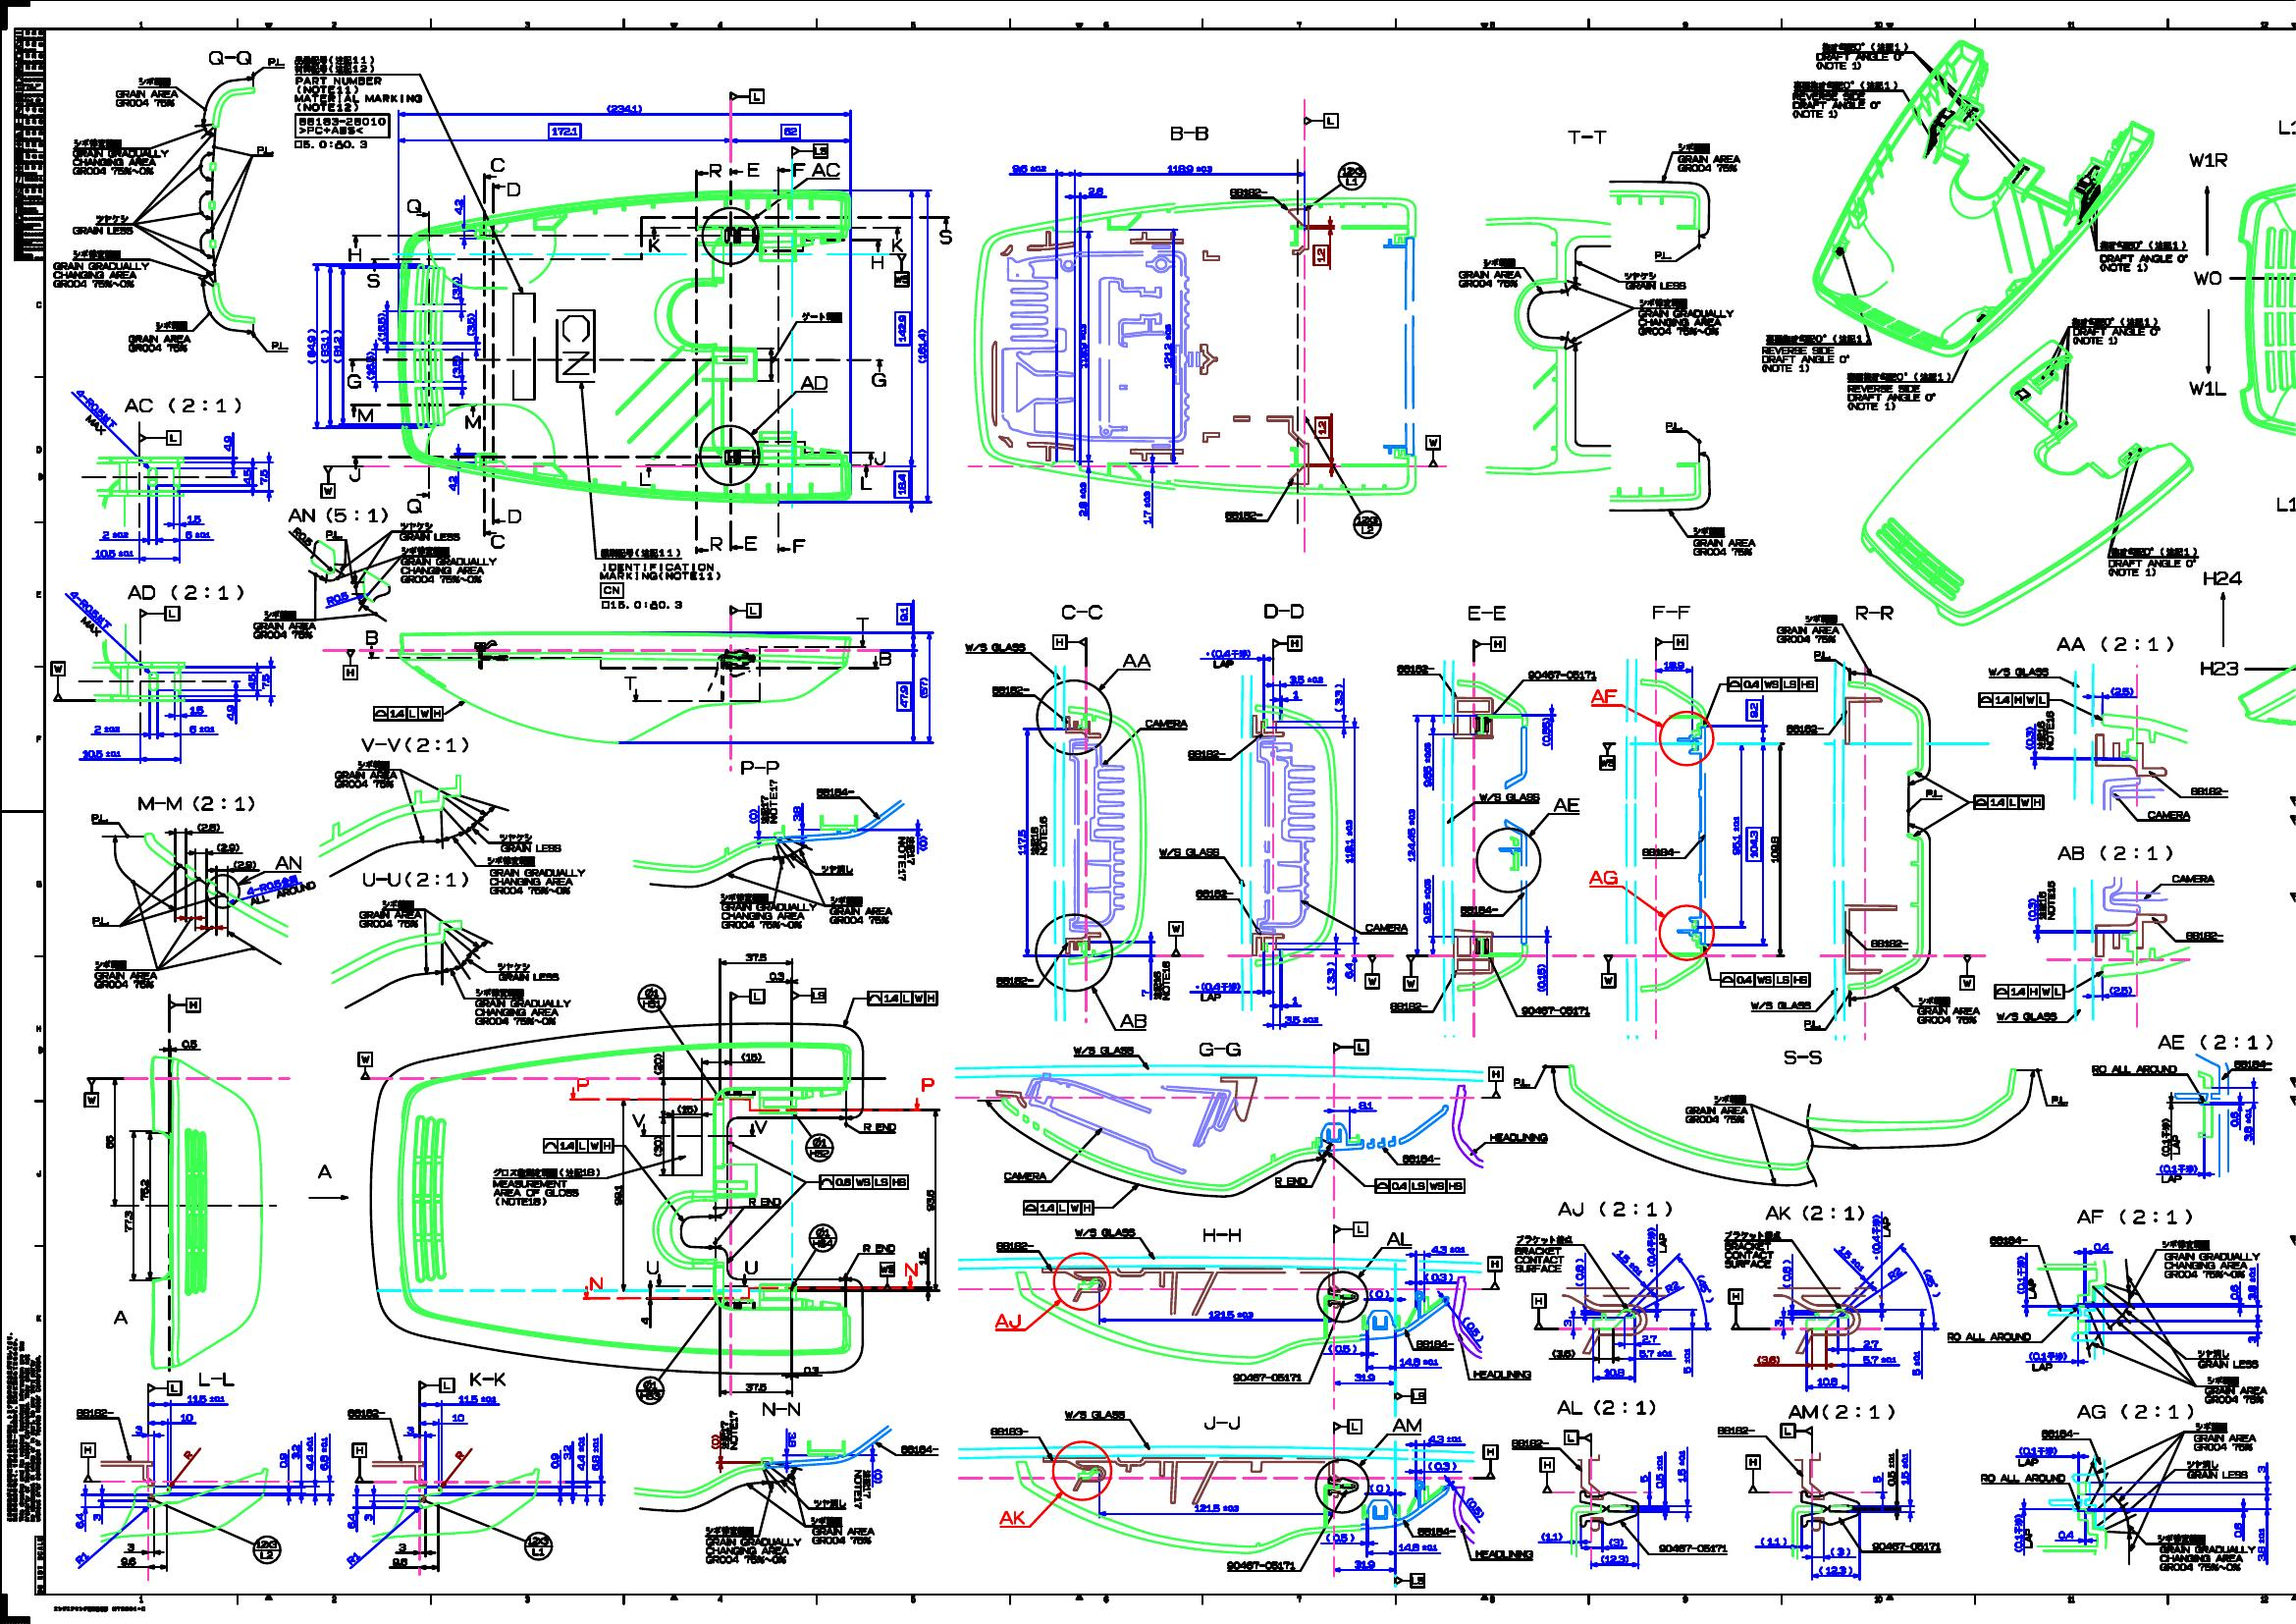anntotation_text: (293, 54, 423, 149), (2187, 151, 2227, 399), (599, 547, 720, 612), (5, 1329, 40, 1522), (490, 1167, 599, 1207), (1846, 371, 1950, 413), (1760, 334, 1871, 373), (1792, 79, 1897, 120), (2155, 1533, 2256, 1575), (2201, 571, 2240, 677), (1635, 297, 1734, 337), (487, 856, 588, 895), (474, 988, 573, 1026), (704, 1526, 803, 1564), (53, 250, 149, 288), (2161, 1241, 2259, 1278), (718, 893, 815, 930), (401, 547, 497, 584), (72, 139, 169, 174), (2099, 237, 2189, 272), (1815, 40, 1910, 70), (2071, 315, 2161, 346), (2108, 547, 2198, 576), (135, 794, 256, 814), (2075, 1207, 2192, 1227), (1514, 1234, 1572, 1272), (1723, 1230, 1781, 1269), (2157, 1033, 2273, 1053), (123, 584, 244, 601), (2055, 634, 2175, 652), (126, 397, 244, 415), (1676, 142, 1741, 174), (1692, 526, 1757, 557), (128, 320, 190, 353), (2057, 844, 2173, 861), (1556, 1200, 1672, 1218), (1555, 1397, 1658, 1417), (1685, 1093, 1748, 1125), (2194, 1420, 2256, 1452), (114, 77, 179, 107), (1458, 257, 1523, 286), (1774, 613, 1839, 643), (2203, 1374, 2268, 1404), (332, 759, 397, 789), (360, 872, 469, 889), (1788, 1403, 1895, 1420), (357, 736, 473, 752), (1917, 995, 1982, 1023), (810, 1517, 875, 1545), (358, 900, 422, 928), (829, 895, 892, 923), (253, 610, 316, 638), (95, 960, 156, 988), (2076, 1404, 2194, 1418), (286, 508, 388, 524), (248, 877, 316, 900), (1765, 1204, 1864, 1220), (1727, 677, 1818, 692), (1720, 972, 1809, 988), (1375, 1178, 1465, 1193), (819, 1174, 908, 1190), (70, 213, 132, 236), (495, 961, 560, 982), (497, 833, 562, 854), (2185, 1459, 2247, 1480), (65, 401, 121, 424), (58, 601, 114, 624), (1623, 271, 1688, 290), (1973, 793, 2043, 810), (2198, 1348, 2259, 1367), (2015, 1255, 2040, 1301), (543, 1137, 613, 1153), (399, 522, 462, 540), (2090, 1062, 2177, 1074), (1980, 1471, 2066, 1483), (866, 991, 938, 1005), (636, 982, 668, 1014), (523, 1531, 555, 1562), (1193, 981, 1240, 1002), (803, 1132, 836, 1162), (1994, 984, 2064, 998), (1022, 1200, 1093, 1214), (372, 707, 443, 721), (1646, 1227, 1667, 1272), (2027, 1350, 2069, 1373), (2015, 1445, 2057, 1468), (1205, 649, 1251, 670), (896, 833, 915, 882), (806, 1223, 838, 1253), (1351, 510, 1383, 540), (759, 777, 778, 824), (251, 1534, 281, 1564), (1978, 694, 2048, 707), (2034, 710, 2055, 750), (2161, 1116, 2182, 1156), (1871, 1214, 1890, 1258), (1226, 1559, 1295, 1571), (636, 1374, 664, 1404), (1337, 162, 1367, 190), (1263, 601, 1305, 620), (1465, 605, 1507, 624), (1750, 998, 1813, 1011), (1525, 670, 1599, 680), (1852, 605, 1895, 622), (1869, 1541, 1941, 1552), (1946, 1332, 2032, 1341), (1073, 1044, 1135, 1056), (2159, 1164, 2198, 1183), (2013, 1513, 2032, 1552), (1565, 128, 1607, 146), (2038, 879, 2055, 921), (1231, 1371, 1302, 1381), (720, 1410, 738, 1452), (854, 1468, 871, 1510), (1029, 814, 1047, 856), (1521, 1005, 1592, 1016), (207, 49, 253, 65), (1658, 1543, 1727, 1554), (1198, 1042, 1242, 1058), (1059, 603, 1103, 619), (1154, 961, 1172, 1000), (1402, 953, 1419, 991), (1994, 1011, 2057, 1021), (1073, 1227, 1137, 1237), (1200, 1227, 1242, 1243), (738, 759, 780, 775), (53, 1605, 146, 1612), (1203, 1413, 1240, 1431), (964, 642, 1026, 652), (1727, 1288, 1743, 1329), (1783, 1049, 1823, 1065), (761, 1401, 801, 1417), (1650, 605, 1690, 620), (1168, 125, 1209, 141), (1488, 1132, 1548, 1142), (1472, 1369, 1532, 1380), (1065, 1410, 1124, 1420), (1474, 1548, 1534, 1559), (146, 1378, 181, 1396), (79, 1443, 95, 1482), (197, 1371, 235, 1387), (1539, 1455, 1555, 1494), (49, 661, 65, 700), (139, 431, 181, 445), (1333, 1220, 1367, 1237), (729, 601, 762, 619), (791, 144, 827, 160), (469, 1371, 506, 1387), (139, 606, 179, 620), (351, 1443, 365, 1483), (729, 88, 764, 104), (731, 988, 766, 1004), (791, 986, 826, 1002), (1483, 1445, 1498, 1480), (1052, 634, 1087, 650), (1365, 954, 1381, 990), (1477, 793, 1541, 801), (1590, 685, 1618, 705), (1989, 668, 2050, 677), (1158, 847, 1219, 856), (320, 464, 336, 497), (1959, 956, 1975, 990), (1600, 954, 1616, 988), (1488, 1257, 1504, 1290), (1472, 636, 1505, 652), (35, 1534, 44, 1594), (1588, 868, 1618, 886), (274, 854, 304, 872), (355, 1051, 372, 1081), (1551, 796, 1581, 814), (1333, 1039, 1370, 1053), (1532, 1292, 1546, 1329), (1989, 1234, 2031, 1246), (1746, 1455, 1760, 1492), (1168, 921, 1182, 958), (1488, 1067, 1504, 1098), (1332, 1418, 1363, 1434), (1391, 1417, 1423, 1432), (1425, 434, 1440, 466), (801, 309, 841, 322), (1397, 663, 1437, 675), (894, 253, 908, 288), (1599, 742, 1616, 770), (1303, 114, 1339, 128), (1003, 1171, 1049, 1181), (83, 1077, 98, 1107), (1395, 1571, 1425, 1587), (1121, 652, 1151, 668), (1272, 634, 1302, 650), (1393, 1388, 1426, 1403), (420, 1378, 453, 1392), (2147, 808, 2191, 819), (2171, 874, 2215, 884), (1145, 719, 1189, 729), (1363, 923, 1407, 933), (169, 998, 200, 1012), (878, 1260, 894, 1288), (994, 1313, 1022, 1329), (998, 1510, 1026, 1526), (1781, 1424, 1813, 1438), (1186, 749, 1228, 759), (1657, 634, 1688, 649), (343, 649, 357, 680), (2189, 786, 2229, 796), (2184, 930, 2224, 940), (2233, 1058, 2273, 1069), (76, 1408, 116, 1418), (346, 1408, 386, 1418), (989, 1427, 1029, 1438), (1416, 1526, 1456, 1536), (991, 684, 1031, 694), (1223, 510, 1263, 520), (1384, 1232, 1414, 1246), (1121, 1012, 1147, 1028), (1869, 939, 1908, 949), (1641, 847, 1679, 858), (1402, 1151, 1440, 1162), (1511, 1438, 1549, 1448), (815, 786, 854, 796), (1563, 1429, 1592, 1443), (996, 975, 1033, 986), (1390, 1000, 1426, 1011), (747, 1195, 782, 1206), (861, 1243, 896, 1253), (1716, 1425, 1758, 1434), (1785, 724, 1825, 733), (1195, 889, 1235, 898), (1228, 188, 1268, 197), (863, 1121, 896, 1132), (1274, 1176, 1307, 1186), (813, 1497, 847, 1508), (1414, 1339, 1453, 1348), (2041, 1429, 2080, 1438), (899, 1445, 938, 1454), (1460, 905, 1498, 914), (996, 1241, 1033, 1250), (820, 865, 854, 874), (111, 1309, 128, 1325), (364, 629, 379, 647), (464, 415, 481, 431), (2048, 1093, 2069, 1106), (574, 1077, 590, 1093), (588, 1276, 604, 1292), (645, 1258, 661, 1274), (741, 534, 757, 550), (406, 499, 422, 515), (490, 534, 506, 550), (506, 508, 522, 524), (857, 475, 873, 490), (871, 450, 887, 466), (799, 374, 815, 390), (889, 237, 905, 253), (506, 181, 522, 197), (346, 246, 362, 262), (346, 374, 362, 390), (903, 1260, 917, 1278), (348, 468, 362, 483), (358, 408, 372, 424), (90, 812, 111, 823), (316, 1164, 332, 1178), (631, 1113, 646, 1127), (745, 1258, 759, 1274), (754, 1118, 768, 1134), (921, 1077, 936, 1091), (878, 650, 892, 666), (323, 529, 344, 540), (792, 538, 806, 554), (636, 471, 650, 487), (871, 371, 885, 387), (870, 255, 884, 271), (791, 162, 805, 178), (708, 163, 722, 179), (646, 239, 661, 255), (490, 156, 504, 172), (406, 199, 420, 214), (365, 272, 379, 288), (1655, 250, 1672, 262), (1813, 649, 1832, 659), (1513, 1077, 1532, 1088), (708, 538, 722, 552), (745, 162, 759, 176), (624, 675, 636, 691), (938, 228, 950, 244), (813, 162, 826, 178), (1665, 420, 1683, 431), (90, 916, 111, 924), (265, 56, 285, 65), (271, 341, 290, 350), (1925, 789, 1941, 798), (1802, 1019, 1822, 1026), (255, 146, 272, 153)
dimension_text: (1405, 807, 1416, 861), (894, 311, 910, 344), (546, 123, 580, 139), (1344, 817, 1354, 865), (1398, 1355, 1439, 1367), (1746, 826, 1760, 861), (1423, 742, 1433, 786), (896, 682, 912, 710), (1834, 1253, 1869, 1265), (1398, 1541, 1439, 1552), (1730, 816, 1741, 856), (1193, 1503, 1240, 1512), (894, 471, 910, 497), (1163, 322, 1172, 369), (1423, 877, 1432, 924), (1818, 1564, 1852, 1577), (1699, 1272, 1711, 1306), (1925, 1267, 1938, 1301), (1166, 163, 1212, 172), (1080, 323, 1089, 369), (1209, 1309, 1254, 1318), (1079, 480, 1089, 517), (1611, 1257, 1648, 1267), (306, 327, 316, 364), (320, 329, 330, 366), (1885, 1452, 1895, 1487), (1284, 1014, 1319, 1025), (1314, 417, 1332, 438), (304, 1436, 314, 1471), (1862, 1353, 1897, 1364), (330, 329, 341, 364), (81, 749, 121, 758), (1676, 1450, 1686, 1483), (364, 346, 374, 380), (186, 1394, 225, 1403), (95, 548, 134, 557), (1312, 244, 1328, 265), (896, 603, 912, 624), (1426, 1461, 1456, 1471), (1326, 1343, 1356, 1353), (1769, 835, 1780, 865), (1574, 1257, 1585, 1287), (1681, 1346, 1692, 1376), (1426, 1434, 1462, 1443), (1655, 1454, 1664, 1489), (2257, 1526, 2266, 1561), (1289, 675, 1325, 684), (606, 104, 641, 112), (917, 329, 926, 364), (1012, 163, 1047, 172), (1142, 489, 1151, 524), (1430, 1244, 1465, 1253), (780, 123, 799, 139), (1326, 1531, 1354, 1541), (1460, 1323, 1488, 1334), (1535, 963, 1546, 991), (1746, 700, 1760, 721), (1781, 1258, 1792, 1287), (590, 1438, 599, 1471), (1899, 1452, 1908, 1485), (320, 1436, 329, 1469), (1639, 1348, 1672, 1357), (2243, 1107, 2252, 1141), (2247, 1267, 2256, 1301), (378, 311, 386, 344), (457, 1396, 497, 1403), (1462, 1503, 1488, 1513), (1541, 715, 1549, 747), (1600, 1554, 1630, 1562), (578, 1434, 585, 1471), (1539, 1531, 1563, 1541), (924, 1190, 936, 1211), (1354, 1371, 1375, 1383), (2108, 984, 2133, 995), (2110, 685, 2134, 696), (2024, 726, 2034, 750), (1551, 1348, 1576, 1359), (1758, 1536, 1787, 1545), (1017, 828, 1026, 856), (1333, 684, 1342, 712), (1425, 1272, 1453, 1281), (188, 724, 216, 733), (1829, 1545, 1852, 1555), (139, 1178, 149, 1200), (216, 842, 239, 852), (740, 1051, 762, 1062), (1602, 1366, 1625, 1376), (1816, 1376, 1839, 1387), (450, 276, 460, 299), (102, 531, 128, 540), (1913, 1350, 1922, 1376), (323, 592, 350, 601), (1368, 1288, 1390, 1299), (613, 1185, 624, 1206), (676, 1104, 697, 1114), (745, 1381, 766, 1392), (1664, 659, 1685, 670), (919, 677, 929, 698), (232, 859, 256, 868), (1757, 1355, 1781, 1364), (290, 533, 314, 541), (123, 1209, 132, 1232), (197, 823, 220, 831), (653, 1053, 662, 1076), (745, 953, 768, 961), (2027, 898, 2036, 921), (453, 355, 462, 378), (1326, 961, 1333, 990), (93, 726, 121, 733), (1354, 1559, 1375, 1568), (181, 1039, 199, 1049), (1342, 961, 1353, 979), (344, 1552, 362, 1562), (653, 1135, 662, 1156), (184, 531, 211, 538), (1662, 1281, 1679, 1292), (2092, 1241, 2110, 1251), (453, 197, 464, 214), (1370, 1483, 1390, 1492), (550, 1452, 560, 1468), (1607, 1536, 1623, 1547), (278, 1452, 288, 1468), (188, 705, 204, 715), (260, 673, 271, 689), (2229, 1111, 2240, 1127), (467, 313, 474, 336), (346, 1512, 355, 1529), (2057, 1529, 2075, 1538), (1087, 186, 1105, 195), (227, 703, 235, 721), (260, 468, 269, 485), (1885, 1269, 1903, 1278), (74, 1512, 83, 1529), (72, 1554, 90, 1562), (119, 1555, 137, 1564), (448, 475, 457, 492), (562, 1443, 571, 1459), (711, 1434, 720, 1450), (787, 1431, 796, 1446), (873, 1468, 882, 1483), (2233, 1522, 2242, 1538), (104, 1134, 112, 1149), (748, 808, 757, 824), (792, 805, 801, 821), (919, 835, 928, 851), (290, 1443, 299, 1459), (917, 1250, 926, 1265), (803, 1366, 819, 1374), (248, 673, 256, 689), (223, 434, 232, 450), (242, 468, 251, 483), (1641, 1334, 1657, 1343), (1864, 1339, 1880, 1348), (2229, 1283, 2238, 1299), (181, 1411, 193, 1422), (451, 1413, 466, 1422), (769, 972, 783, 981), (186, 515, 200, 524), (392, 1557, 408, 1564), (134, 1424, 144, 1434), (404, 1425, 416, 1434), (181, 1450, 193, 1459), (1140, 988, 1149, 998), (1291, 689, 1300, 700), (453, 1450, 464, 1459), (1773, 1318, 1783, 1327), (91, 1512, 102, 1520), (364, 1512, 372, 1520), (397, 1541, 406, 1550), (1639, 1475, 1648, 1483), (1873, 1475, 1881, 1483), (1291, 995, 1300, 1004), (639, 1316, 648, 1325), (1563, 1318, 1572, 1327), (2257, 1464, 2266, 1473), (126, 1543, 135, 1552), (2247, 1336, 2257, 1343)
object: (364, 1018, 866, 1376), (397, 188, 854, 504), (971, 195, 1418, 499), (1809, 37, 2155, 359), (1857, 337, 2198, 629), (1477, 179, 1713, 511), (982, 1065, 1486, 1199), (1549, 1065, 2034, 1185), (1008, 1253, 1484, 1367), (397, 627, 859, 743), (1014, 1443, 1476, 1554), (146, 1053, 265, 1371), (1834, 668, 1932, 1002), (1440, 677, 1530, 993), (1623, 673, 1709, 991), (1238, 703, 1339, 967), (1054, 705, 1149, 967), (631, 800, 905, 889), (111, 831, 288, 967), (636, 1425, 892, 1512), (318, 773, 495, 865), (200, 72, 255, 337), (100, 1459, 269, 1543), (371, 1461, 539, 1543), (329, 917, 488, 1000), (2073, 875, 2192, 979), (2073, 707, 2191, 810), (1790, 1452, 1859, 1557), (1563, 1285, 1665, 1355), (2040, 1457, 2108, 1555), (1569, 1454, 1637, 1550), (1774, 1285, 1867, 1355), (2038, 1260, 2105, 1357), (309, 540, 388, 620), (90, 638, 183, 700), (95, 455, 183, 510), (2173, 1053, 2227, 1139)
title_block: (12, 26, 46, 262)
